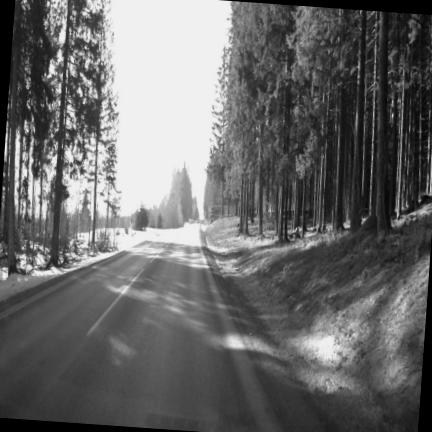Road: (0, 225, 324, 431)
